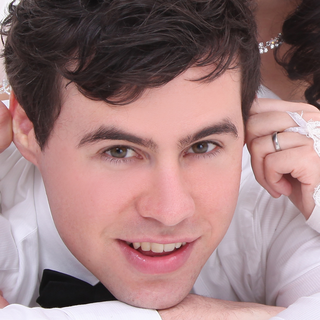eye: (94, 140, 146, 164), (182, 134, 229, 159)
